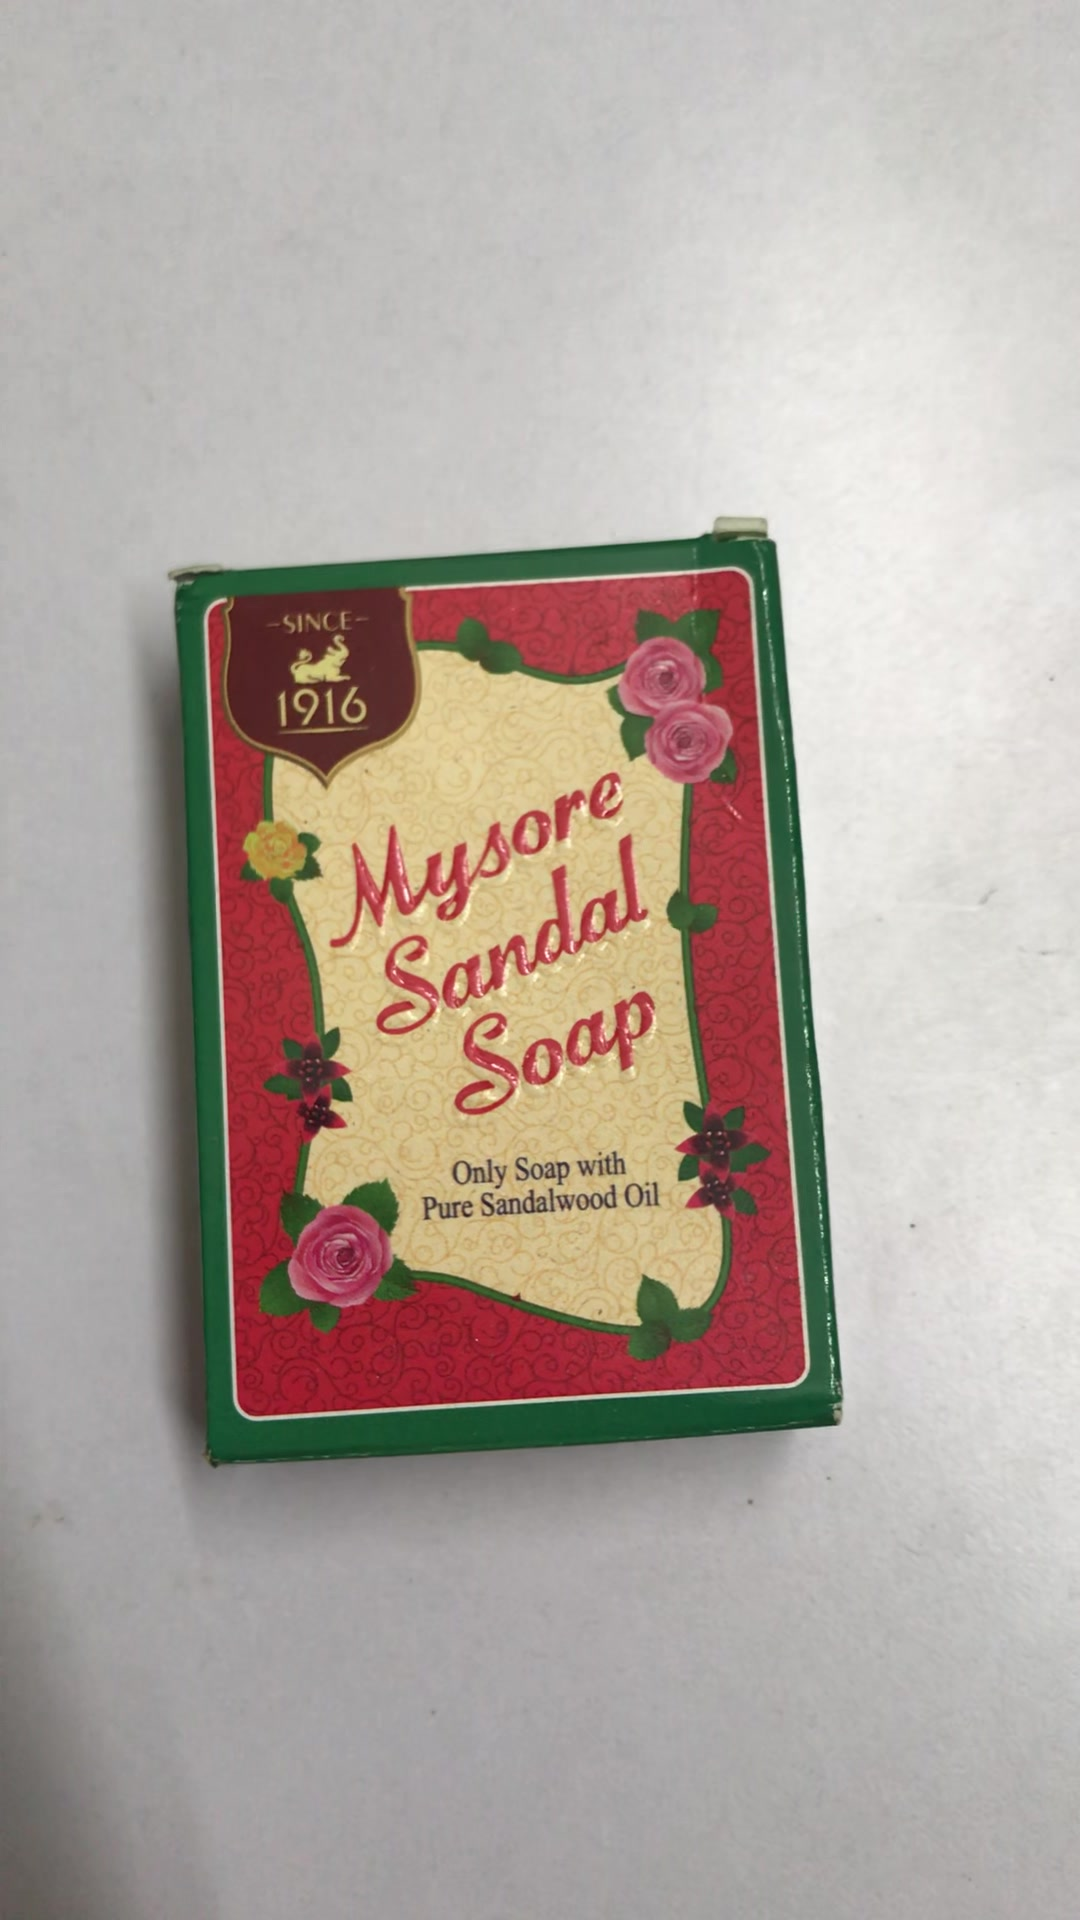mysore sandal soap: (178, 553, 837, 1465)
